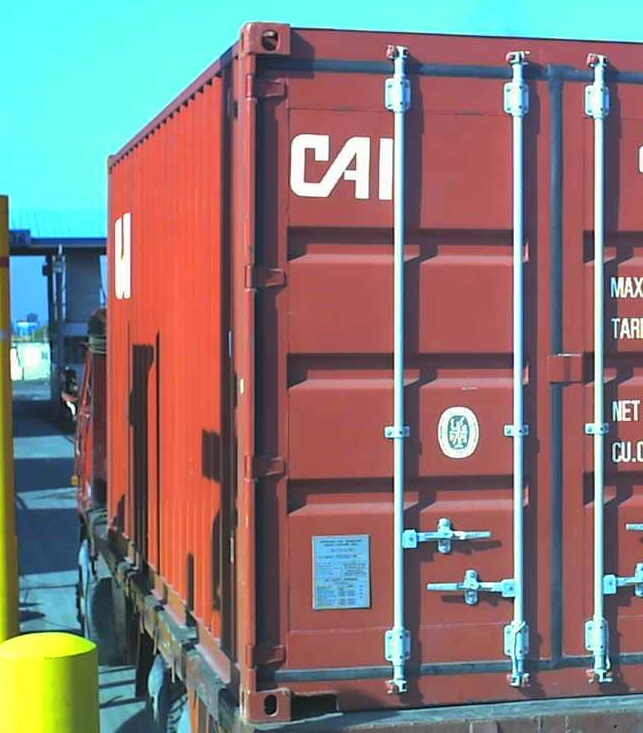container_door: (238, 19, 635, 719)
